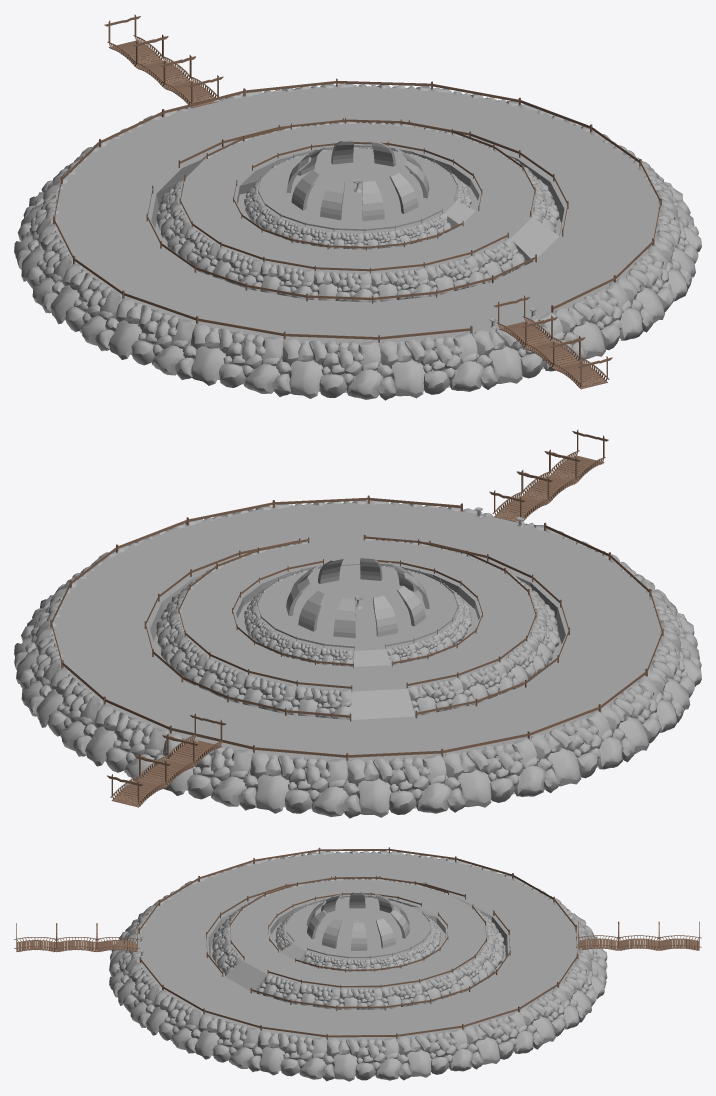
Rendered from Cliff_fuck_this_shit.fbx.
3 views of the same model, one above another, from view 1: azimuth 30°, elevation 25°; view 2: azimuth 150°, elevation 25°; view 3: azimuth 270°, elevation 25° (orthographic). The views are drawn at different scales.
Parts seen in each view (by area): view 1: Outside_circle, Outside_rocks, Middle_circle, Inside_circle, Middle_rocks, Outside_fence_1, Inside_rocks, Middle_fence_2, Outside_fence_2, Middle_fence_1, Bridge_3, Bridge_4 (+6 smaller); view 2: Outside_circle, Outside_rocks, Middle_circle, Inside_circle, Middle_rocks, Outside_fence_1, Inside_rocks, Middle_fence_2, Bridge_6, Bridge_1, Middle_fence_1, Outside_fence_3 (+6 smaller); view 3: Outside_circle, Outside_rocks, Middle_circle, Inside_circle, Middle_rocks, Outside_fence_1, Inside_rocks, Middle_fence_2, Outside_fence_3, Middle_fence_1, Bridge_5, Bridge_2 (+6 smaller).
Part boxes in pixels (x1,y1,x2,y2): Outside_circle: (51,85,673,392); Outside_rocks: (14,83,701,400); Middle_circle: (156,122,559,294); Inside_circle: (239,140,475,244); Middle_rocks: (156,121,559,302); Outside_fence_1: (53,78,661,342); Inside_rocks: (244,147,471,249); Middle_fence_2: (179,117,535,273); Outside_fence_2: (146,185,536,303); Middle_fence_1: (233,140,482,250); Bridge_3: (549,336,612,389); Bridge_4: (159,55,223,108); Outside_circle: (50,502,675,809); Outside_rocks: (14,500,701,818); Middle_circle: (178,539,543,719); Inside_circle: (256,557,462,666); Middle_rocks: (156,538,559,719); Outside_fence_1: (50,495,663,761); Inside_rocks: (244,565,471,666); Middle_fence_2: (178,534,536,690); Bridge_6: (107,754,170,807); Bridge_1: (489,470,553,522); Middle_fence_1: (232,559,482,668); Outside_fence_3: (144,538,351,721); Outside_circle: (136,853,586,1076); Outside_rocks: (109,851,607,1081); Middle_circle: (225,879,492,1006); Inside_circle: (280,892,436,965); Middle_rocks: (212,878,504,1009); Outside_fence_1: (138,847,578,1039); Inside_rocks: (275,897,440,971); Middle_fence_2: (229,875,486,988); Outside_fence_3: (250,910,510,1010); Middle_fence_1: (268,892,448,972); Bridge_5: (616,922,661,950); Bridge_2: (54,923,99,951).
Size of the model in its own units: 576 by 90.35 by 795.
